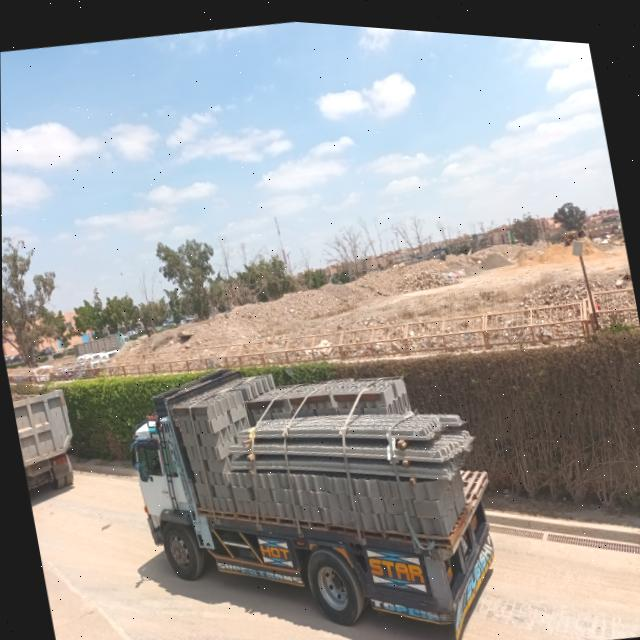bricks: (171, 376, 470, 540)
